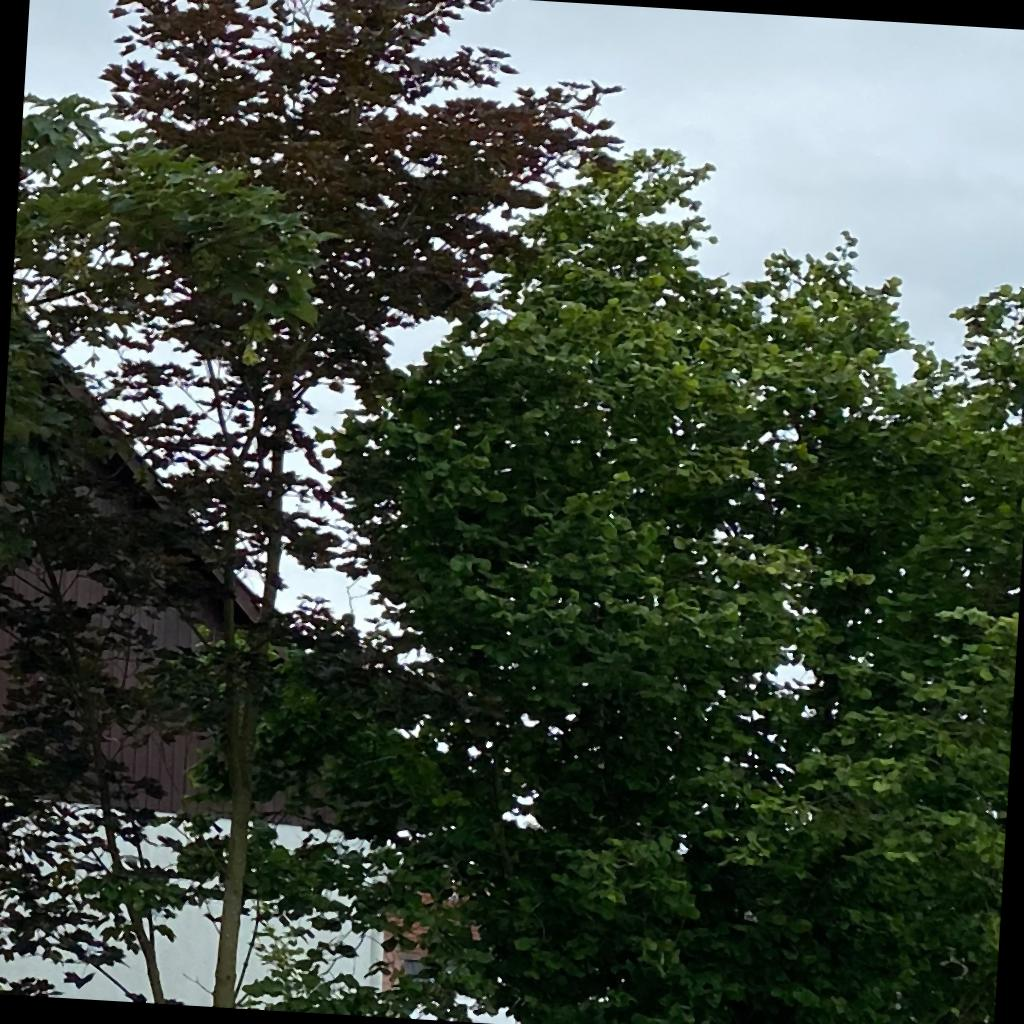tree: (130, 148, 1024, 1024), (1, 1, 626, 1023), (1, 91, 343, 1024)
